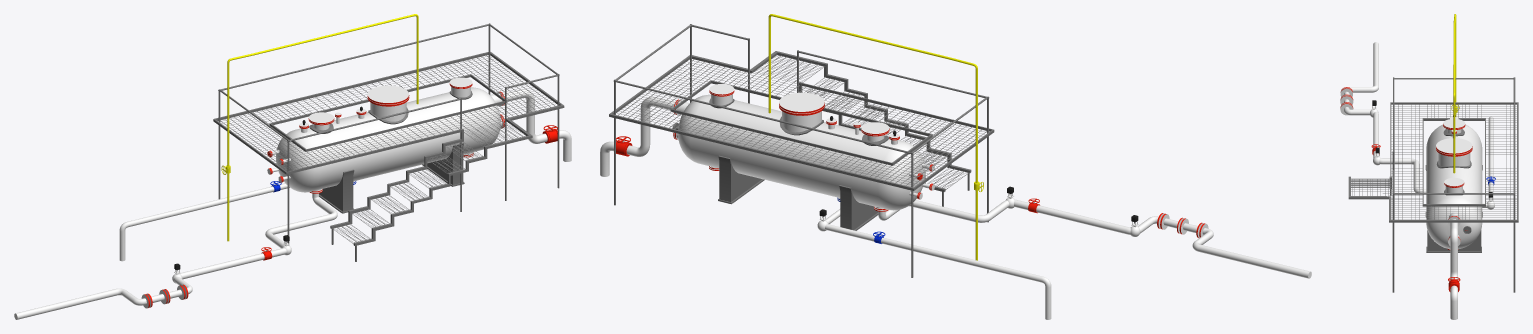
The model's file is cisterna.fbx.
3 views of the same model, side by side, from view 1: azimuth 30°, elevation 25°; view 2: azimuth 150°, elevation 25°; view 3: azimuth 270°, elevation 25° (orthographic). The views are drawn at different scales.
Visible parts, largest first — view 1: bochka, ploshadka, kraya, truba.004, Cylinder, truba.005, Cylinder.001, truba.003, podstavka1, podstavka2, Cylinder.014, Cylinder.015 (+1 smaller); view 2: bochka, ploshadka, kraya, truba.004, truba.005, Cylinder, Cylinder.001, truba.003, podstavka2, podstavka1, Cylinder.014, Cylinder.015; view 3: ploshadka, bochka, kraya, truba.004, Cylinder.001, truba.003, Cylinder, podstavka2, truba.005, Cylinder.014, Cylinder.011, Cylinder.012 (+5 smaller).
Boxes of the visible parts, <box> form: bochka: <box>276,87,500,192</box>; ploshadka: <box>220,55,557,243</box>; kraya: <box>213,52,564,245</box>; truba.004: <box>14,189,337,319</box>; Cylinder: <box>227,14,418,241</box>; truba.005: <box>119,181,356,261</box>; Cylinder.001: <box>367,85,409,121</box>; truba.003: <box>490,89,571,161</box>; podstavka1: <box>319,169,354,213</box>; podstavka2: <box>422,142,464,186</box>; Cylinder.014: <box>218,24,489,91</box>; Cylinder.015: <box>287,98,460,141</box>; bochka: <box>678,94,925,210</box>; ploshadka: <box>616,55,987,189</box>; kraya: <box>609,51,994,191</box>; truba.004: <box>874,199,1311,278</box>; truba.005: <box>825,197,1051,319</box>; Cylinder: <box>768,14,977,260</box>; Cylinder.001: <box>779,92,824,132</box>; truba.003: <box>600,96,689,176</box>; podstavka2: <box>718,155,764,204</box>; podstavka1: <box>839,185,878,230</box>; Cylinder.014: <box>613,80,912,154</box>; Cylinder.015: <box>797,51,989,98</box>; ploshadka: <box>1351,104,1516,219</box>; bochka: <box>1426,124,1482,249</box>; kraya: <box>1348,102,1518,222</box>; truba.004: <box>1340,42,1426,192</box>; Cylinder.001: <box>1436,138,1472,166</box>; truba.003: <box>1448,212,1460,319</box>; Cylinder: <box>1453,14,1456,173</box>; podstavka2: <box>1425,212,1482,252</box>; truba.005: <box>1482,116,1493,207</box>; Cylinder.014: <box>1513,78,1515,194</box>; Cylinder.011: <box>1513,192,1515,292</box>; Cylinder.012: <box>1392,192,1394,292</box>.
Bounding box in the file's own units: 2156 × 670 × 634.
